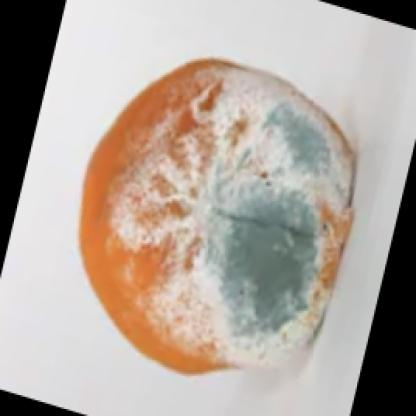rotten: (78, 61, 360, 380)
